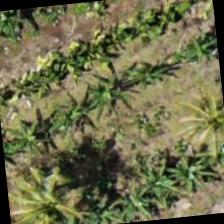Kelapa_Sawit: (161, 65, 223, 163), (5, 160, 94, 223)
